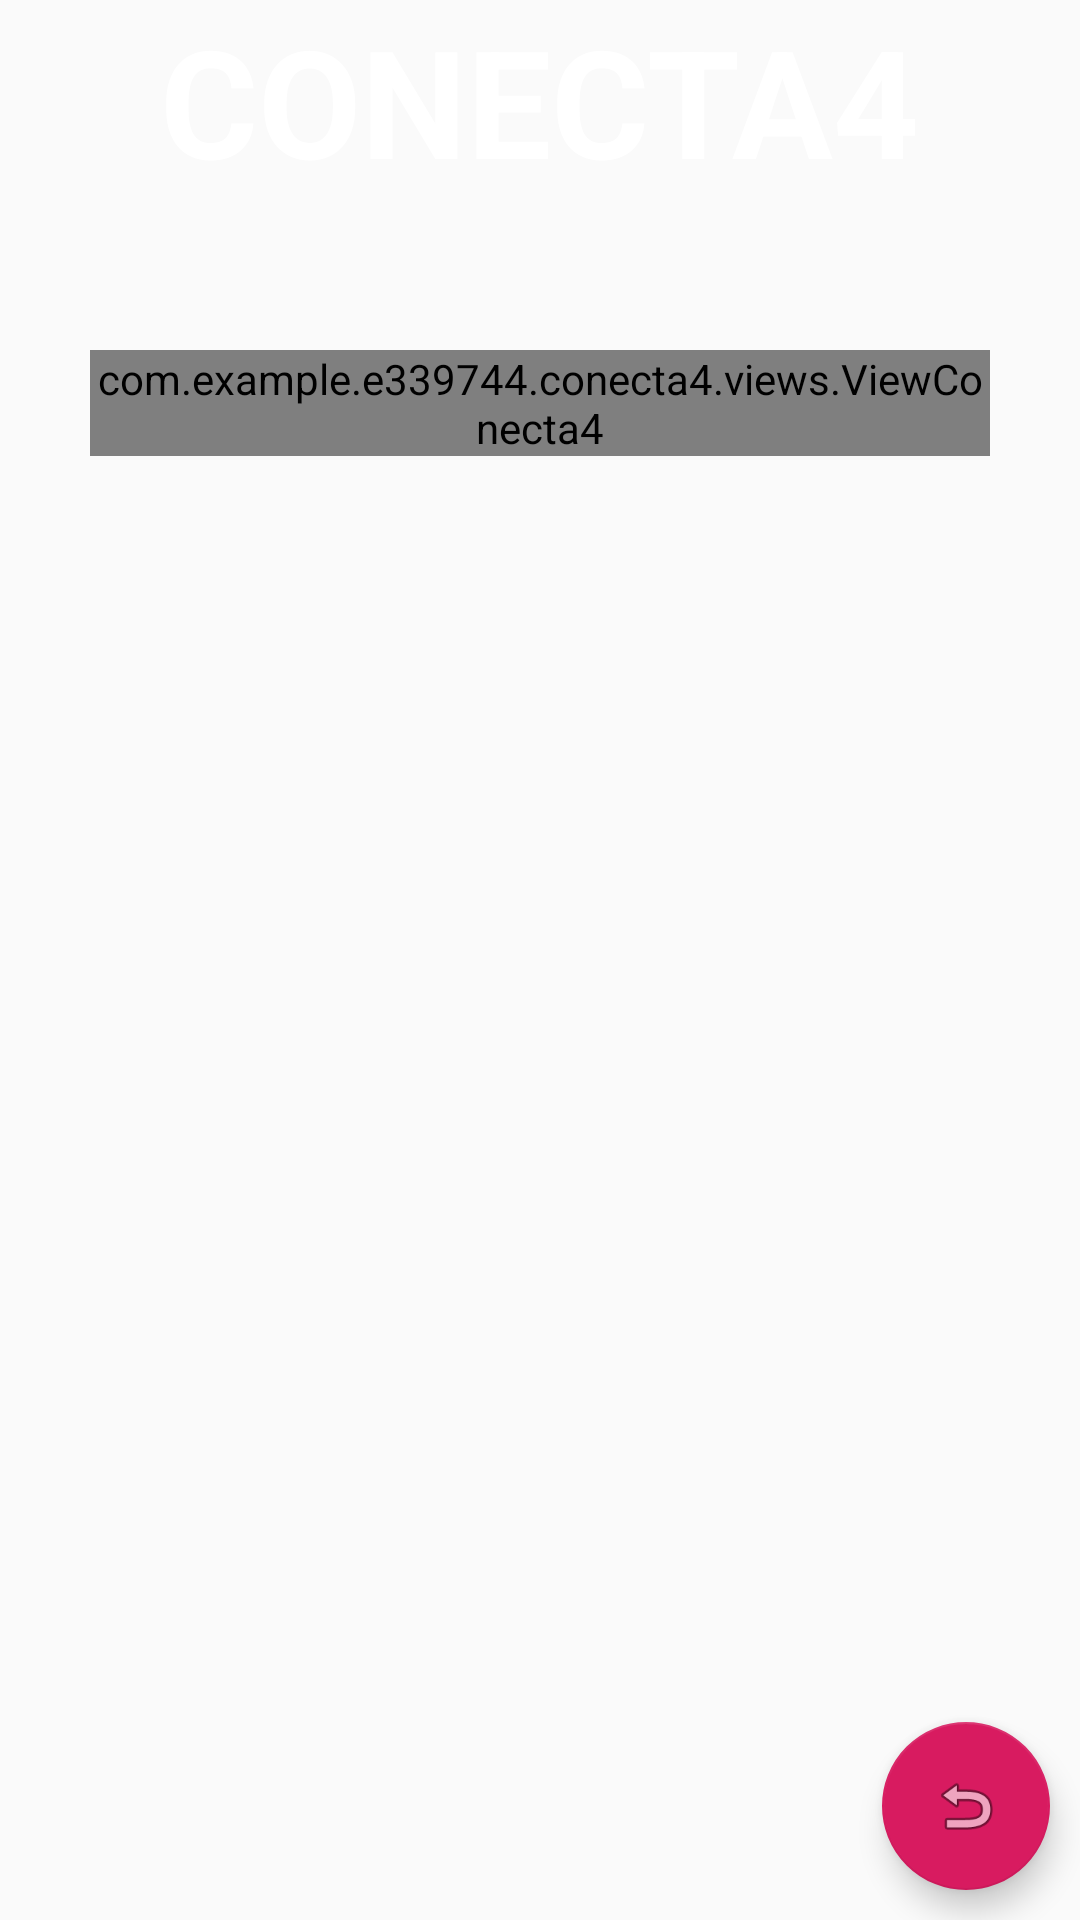

Locate icon controls on the screen. Image size 1080 x 1920, boxes as bbox=(x1, y1, x2, y2).
revert: bbox=(882, 1722, 1050, 1890)
